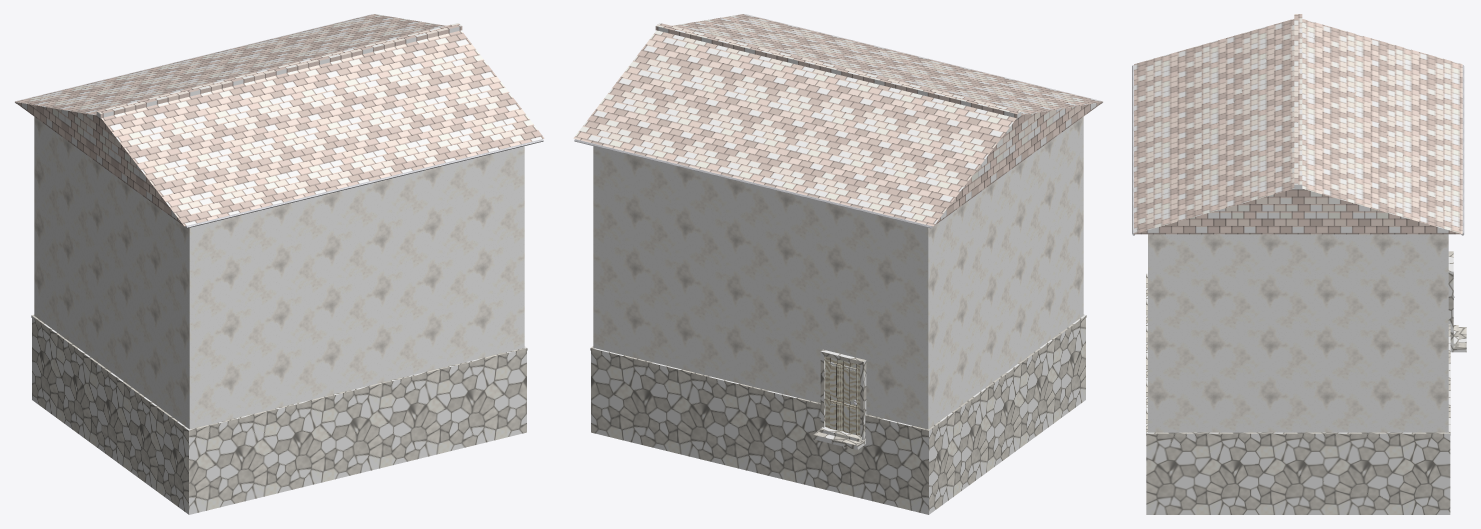
3 views of the same model, side by side, from view 1: azimuth 30°, elevation 25°; view 2: azimuth 150°, elevation 25°; view 3: azimuth 270°, elevation 25° (orthographic). The views are drawn at different scales.
Visible parts, largest first — view 1: b1088806813; view 2: b1088806813; view 3: b1088806813.
Boxes of the visible parts, x1,y1,x2,y2 form: b1088806813: [15, 14, 544, 514]; b1088806813: [573, 14, 1102, 514]; b1088806813: [1132, 14, 1466, 514].
Bounding box in the file's own units: 10.04 × 9.22 × 8.32.
11 materials, 11 textured.
